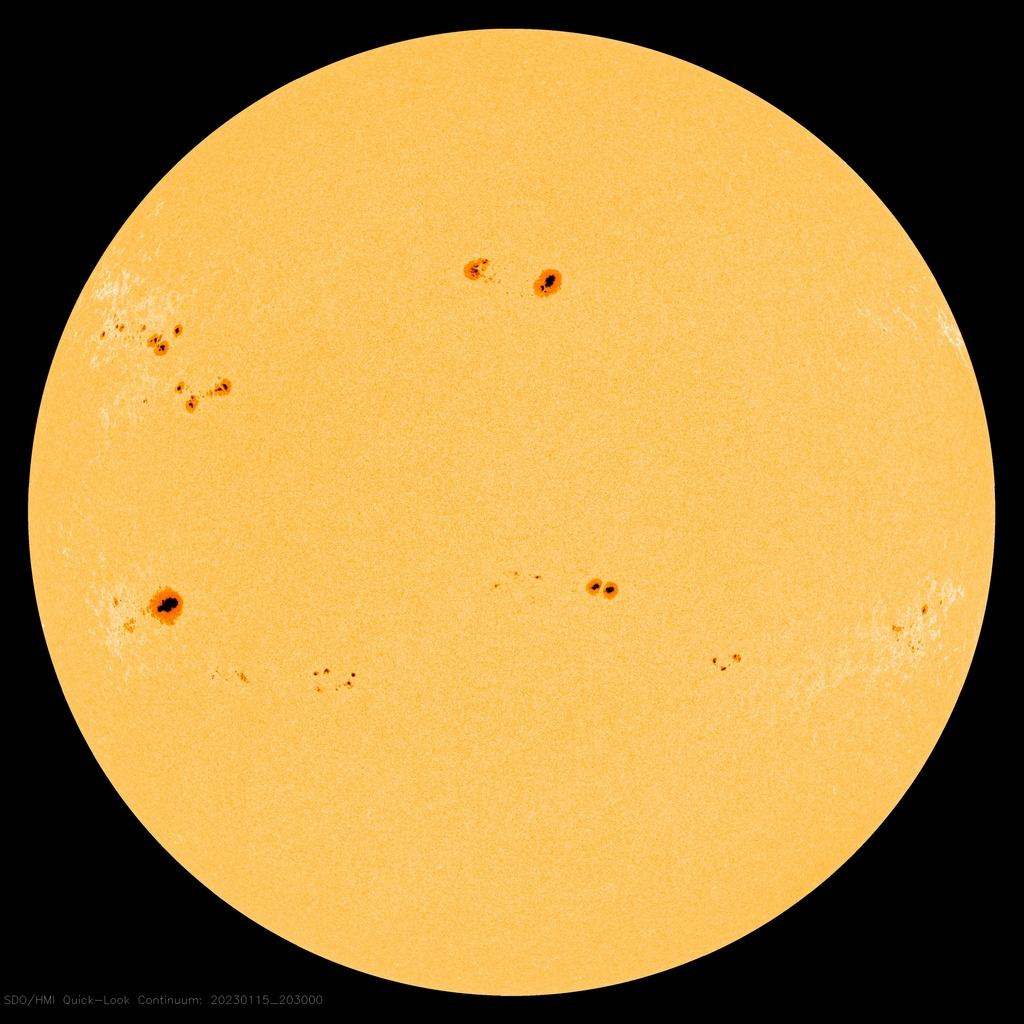flare: (97, 312, 241, 423), (457, 247, 572, 311), (487, 561, 628, 612), (231, 654, 366, 705), (104, 583, 192, 639), (882, 597, 950, 661), (705, 641, 752, 684)
